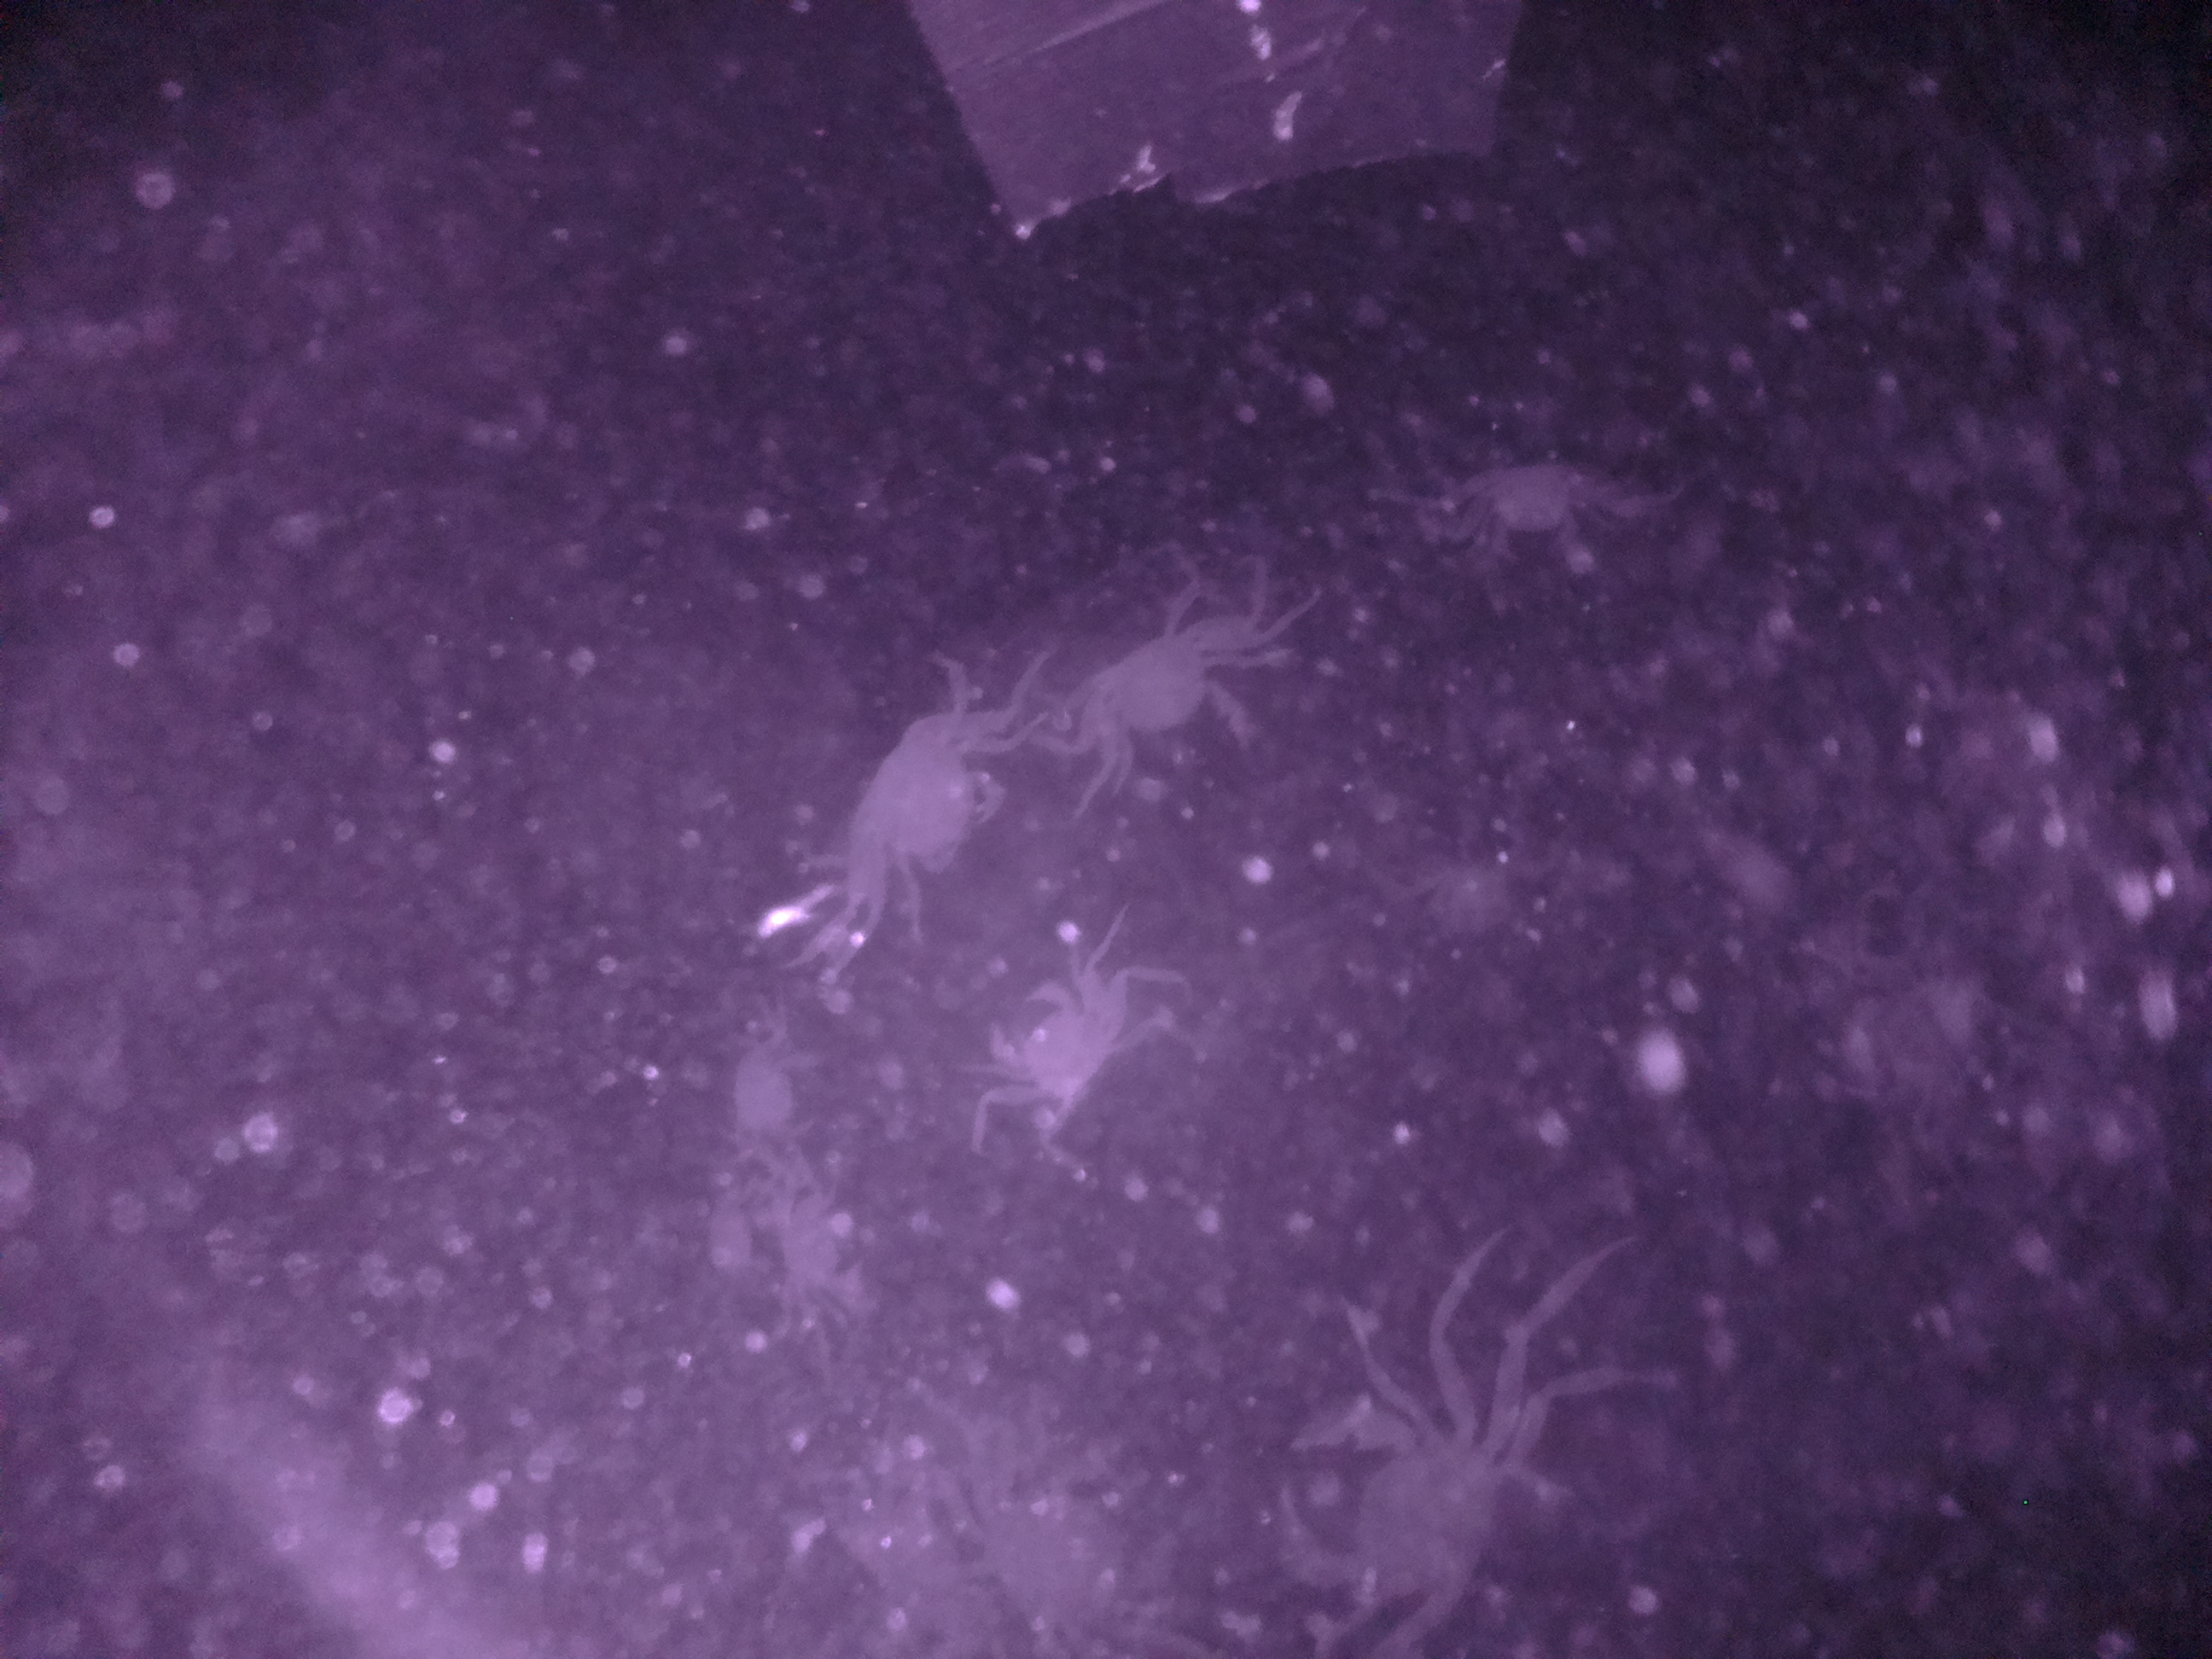Crab: (843, 692, 1015, 903), (1089, 605, 1280, 777), (974, 948, 1134, 1140)
